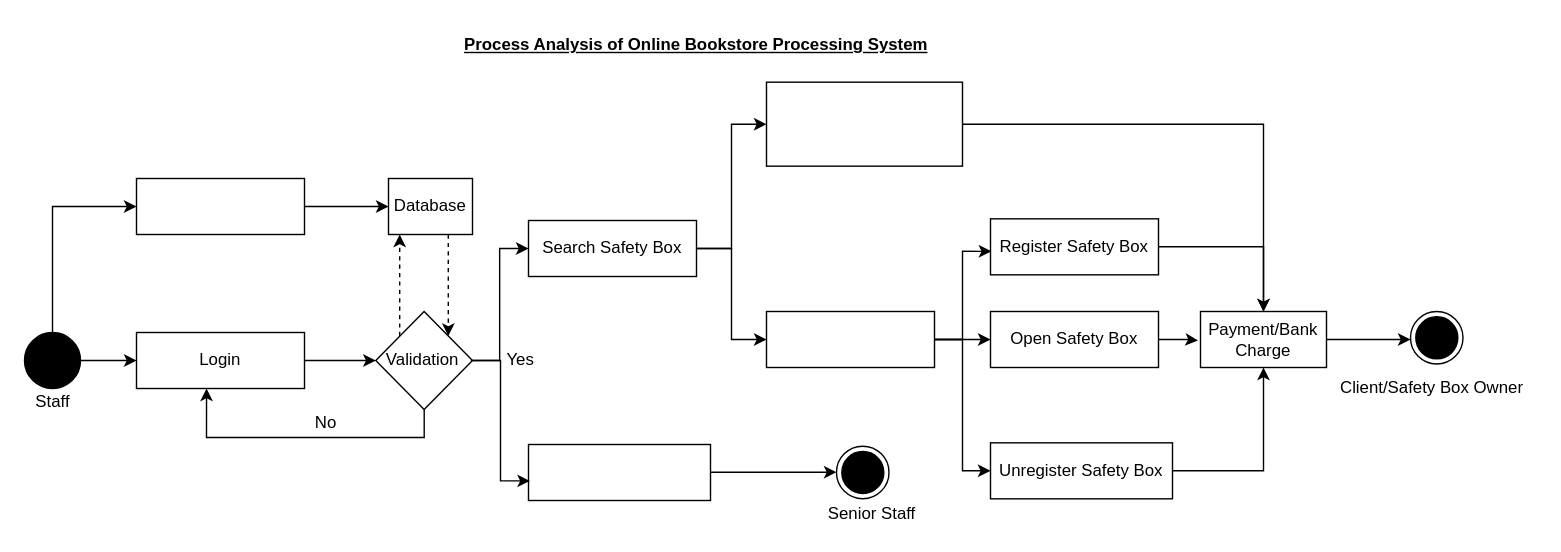
Image size: 1561x552. Some labels were removed from this diagram. The shapes that lost their labels are listed below. From the top down, each one's centre as x and y in pixels, then its label:
At (x=863, y=123): "Regularly checking up of safety box / update the current situation".
At (x=219, y=205): "Register Account".
At (x=849, y=339): "Client instructions".
At (x=618, y=471): "Check up the Log".
